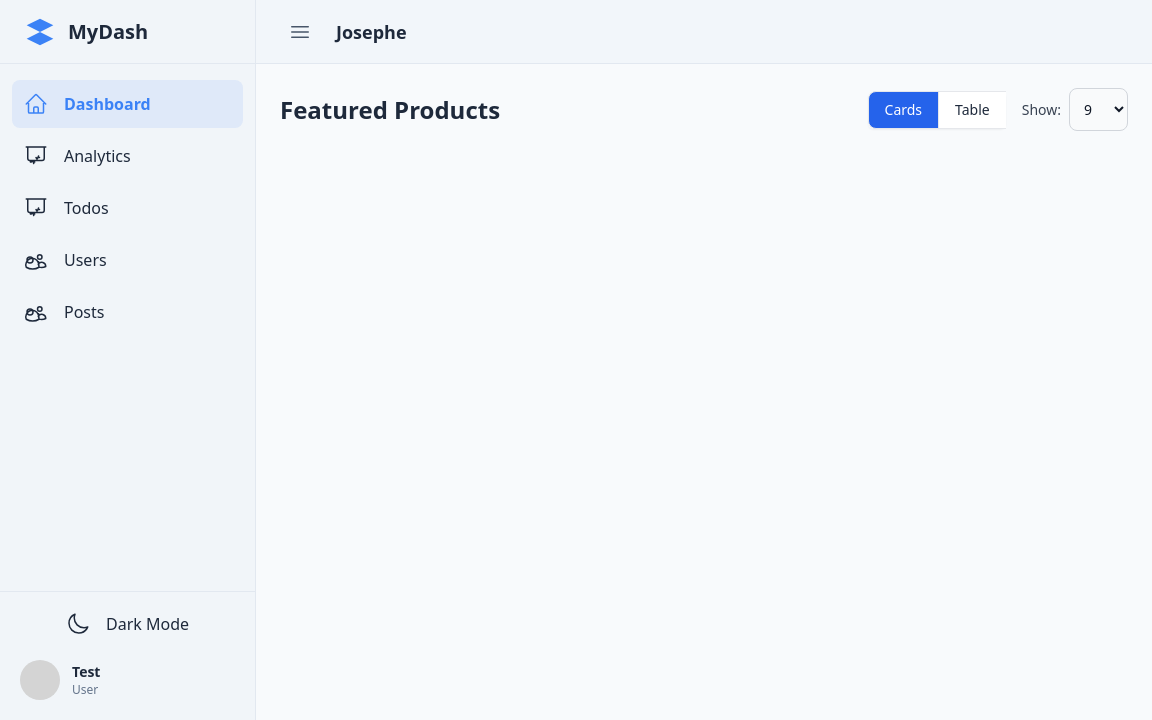
Test: Authentication Flow › should allow a user to log out and be redirected to the login page
Step 1. Click the button with test id "profile-menu-button" → (128, 680), box 12,652 -> 243,708
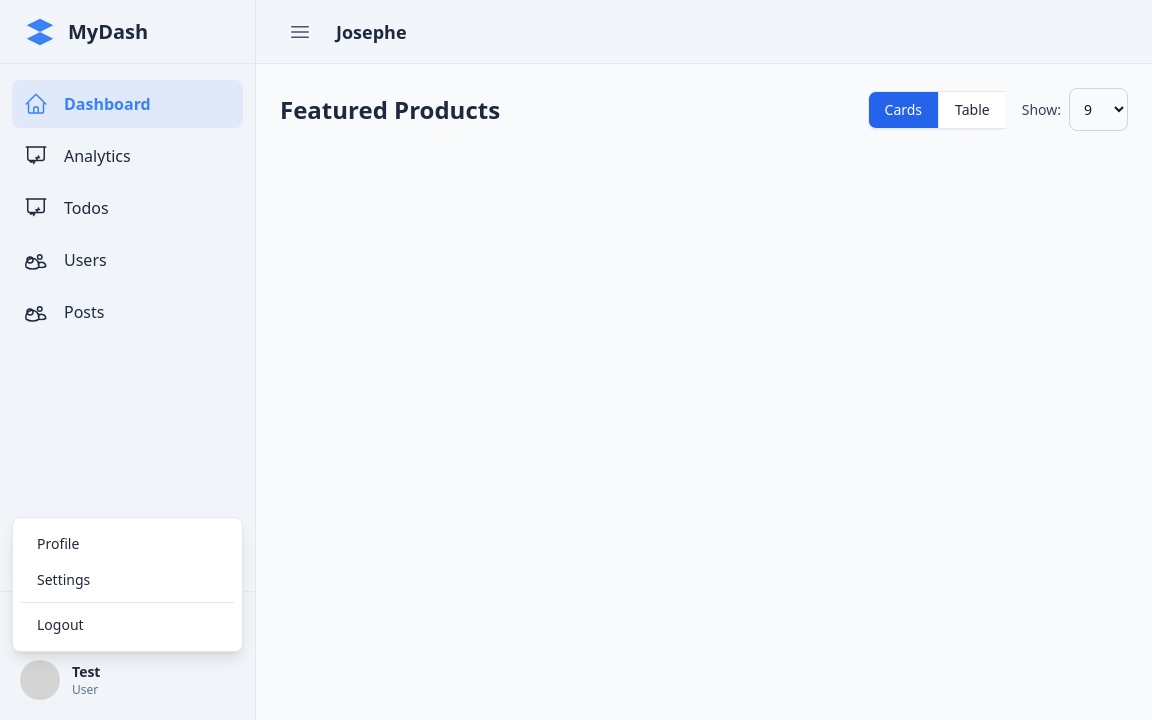
Step 2. Click the button with test id "logout-button" → (128, 625), box 21,607 -> 234,643
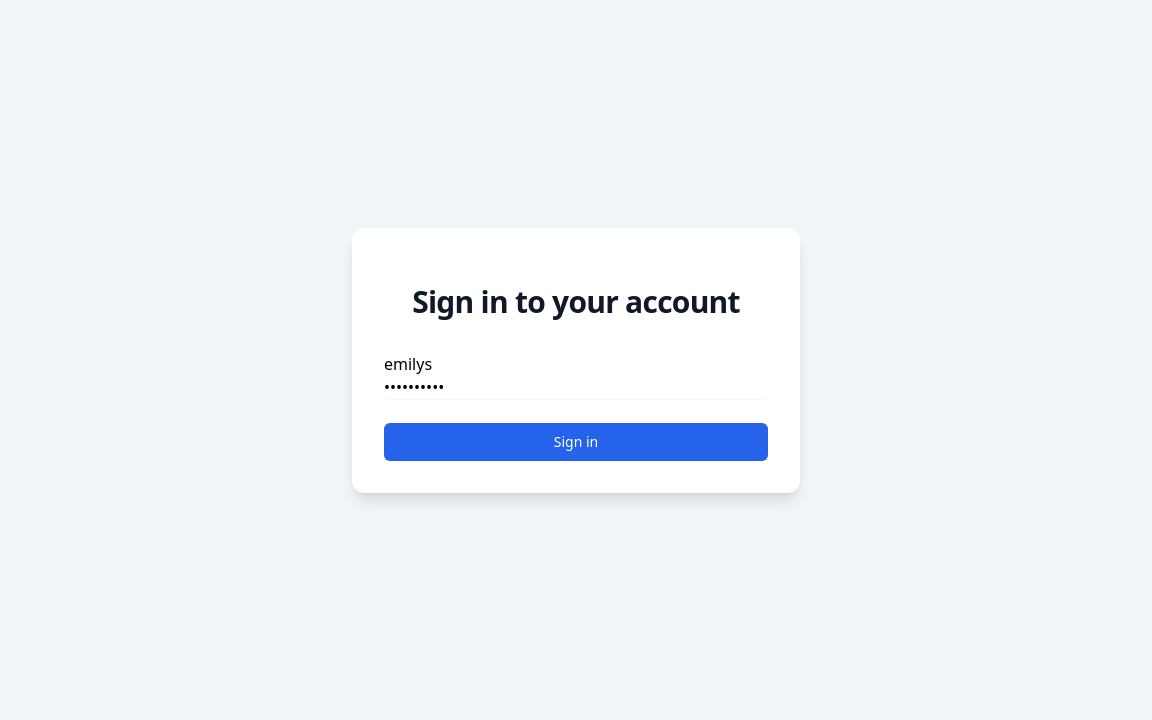
Result: the heading "Sign in to your account" is shown at 384,284 -> 768,320
